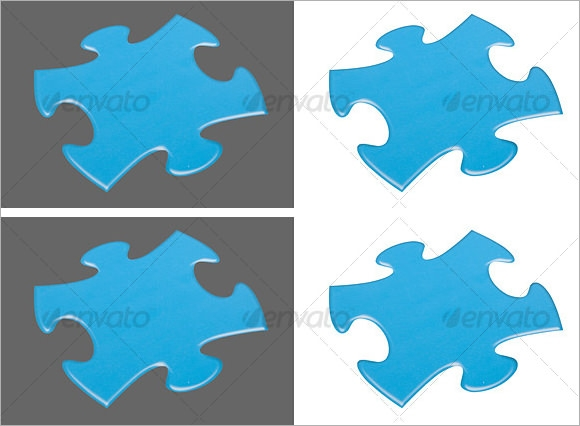puzzle piece: (21, 8, 276, 199), (301, 227, 571, 407), (327, 11, 562, 189)
